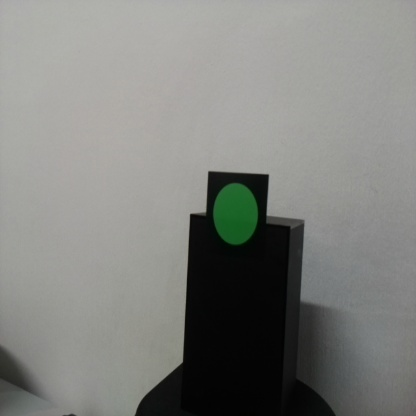id_5: (208, 171, 268, 265)
